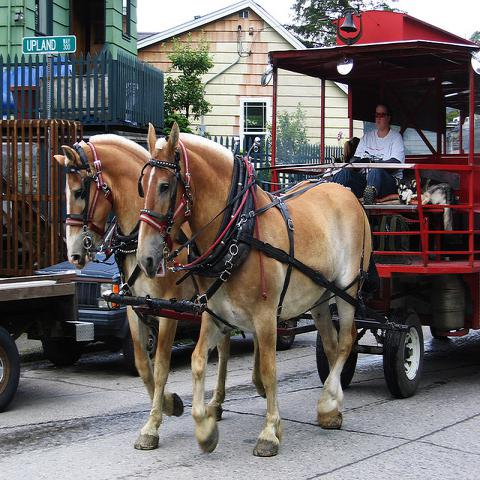truck: (33, 259, 298, 376), (0, 271, 93, 410)
